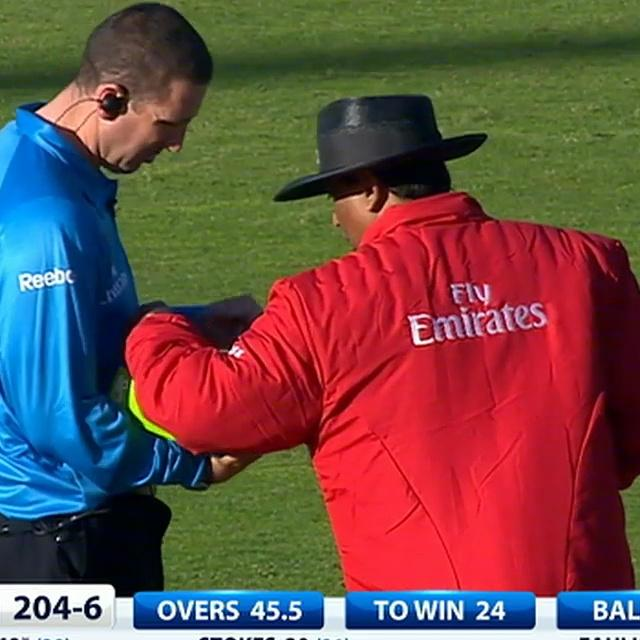umpire: (0, 43, 640, 594)
